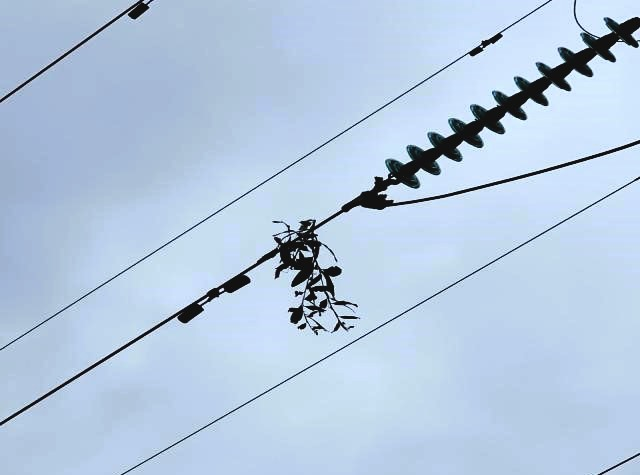wire foreign body: (267, 213, 367, 347)
